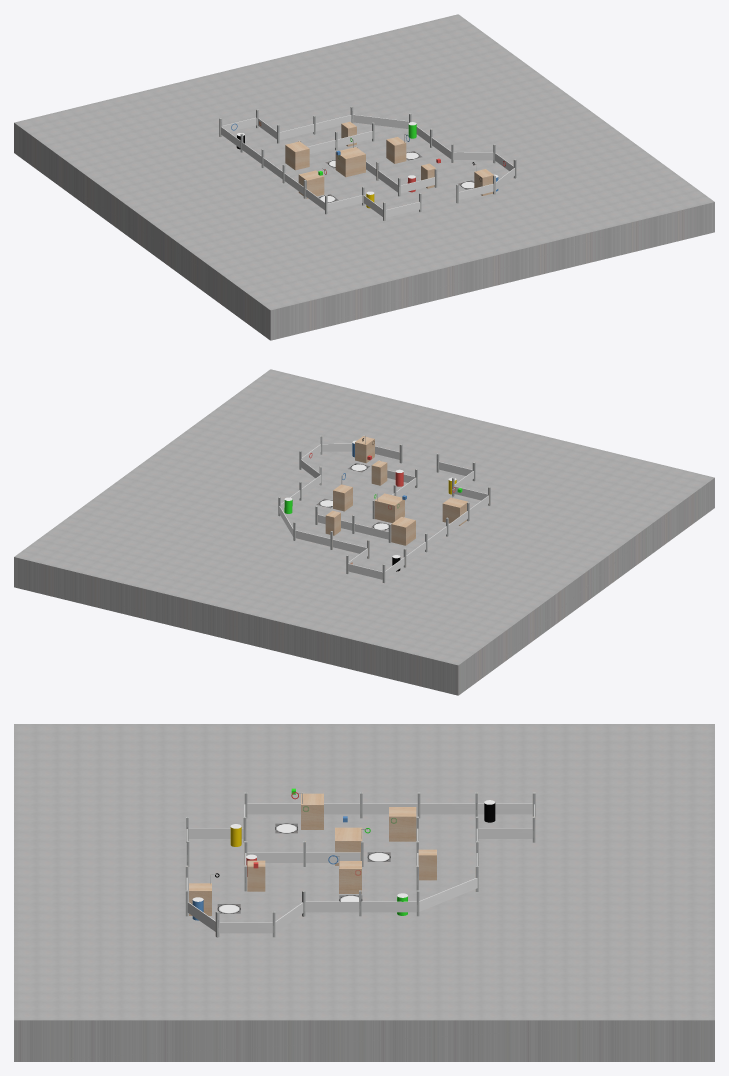
File: map.dae
3 views of the same model, one above another, from view 1: azimuth 30°, elevation 25°; view 2: azimuth 150°, elevation 25°; view 3: azimuth 270°, elevation 25° (orthographic). The views are drawn at different scales.
Parts seen in each view (by area): view 1: main; view 2: main; view 3: main.
Part boxes in pixels (left/top/right/bottom): main: left=14, top=14, right=714, bottom=340; main: left=14, top=369, right=714, bottom=695; main: left=14, top=724, right=714, bottom=1061.
Bounding box in the file's own units: 15.34 × 15.34 × 1.92.
